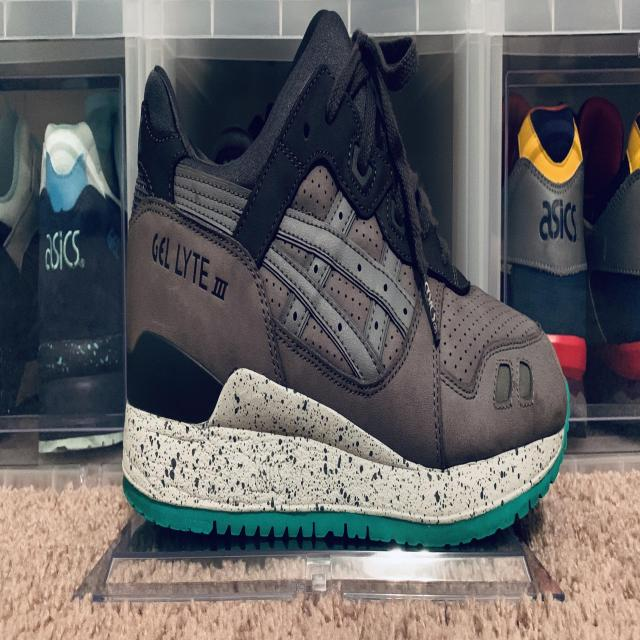shoe: (120, 0, 572, 604), (36, 87, 124, 450), (508, 90, 588, 362)
